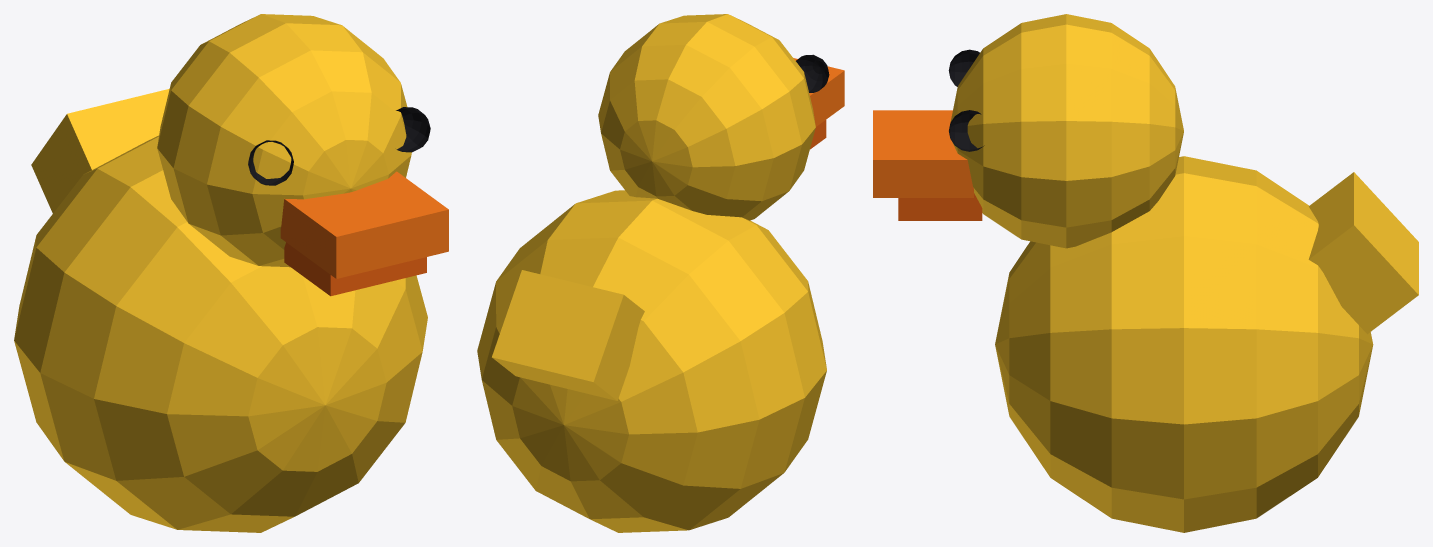
File: hat_goldduck.fbx
3 renders of one model, left to right at view 1: azimuth 30°, elevation 25°; view 2: azimuth 150°, elevation 25°; view 3: azimuth 270°, elevation 25°, orthographic. The views are drawn at different scales.
Visible parts, largest first — view 1: hat_goldduck; view 2: hat_goldduck; view 3: hat_goldduck.
Boxes of the visible parts, left/top/right/bottom form: hat_goldduck: left=14, top=14, right=448, bottom=532; hat_goldduck: left=477, top=14, right=844, bottom=532; hat_goldduck: left=873, top=14, right=1418, bottom=532.
Bounding box in the file's own units: 90 × 129 × 130.
1 material, 1 textured.
